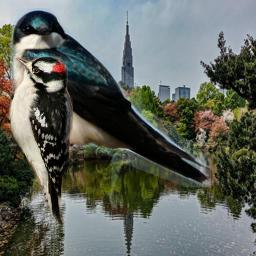Swallow: (10, 8, 211, 187)
Woodpecker: (5, 56, 73, 226)
